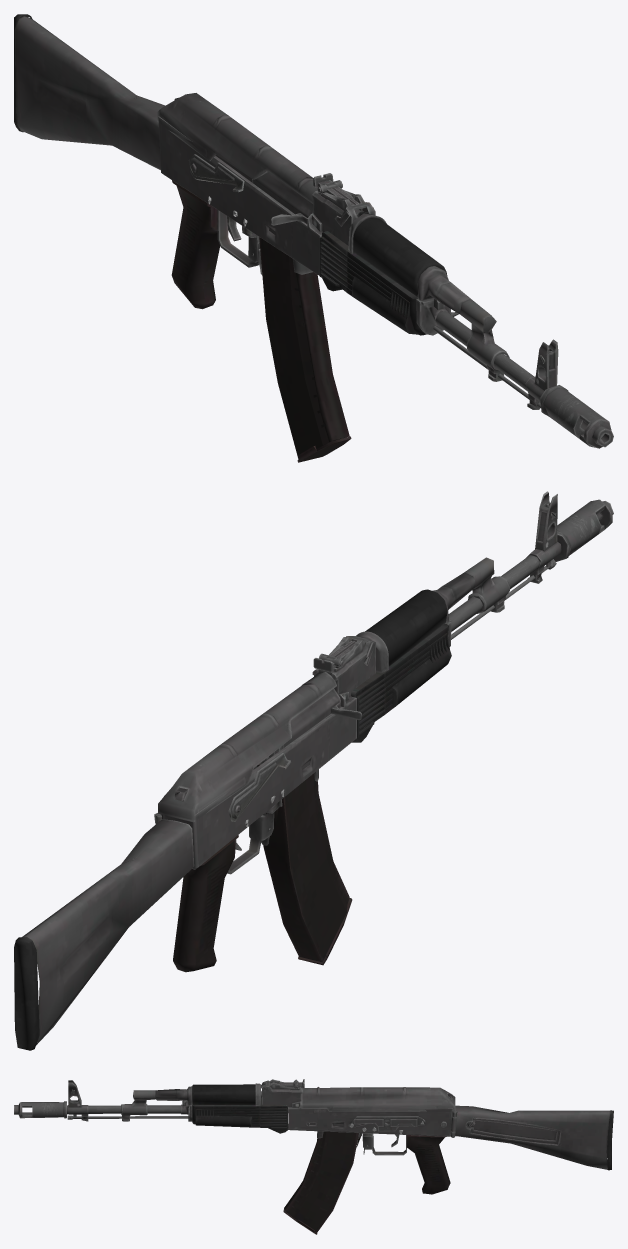
File: rifle_tp.glb
3 renders of one model, top to bottom at view 1: azimuth 30°, elevation 25°; view 2: azimuth 150°, elevation 25°; view 3: azimuth 270°, elevation 25°, orthographic. The views are drawn at different scales.
Visible parts, largest first — view 1: Rifle; view 2: Rifle; view 3: Rifle.
Boxes of the visible parts, x1,y1,x2,y2 form: Rifle: [14, 14, 613, 462]; Rifle: [14, 491, 613, 1050]; Rifle: [14, 1079, 613, 1234].
Size of the model in its own units: 0.065 by 0.2609 by 0.9413.
Materials: 1 (1 with a texture image).
